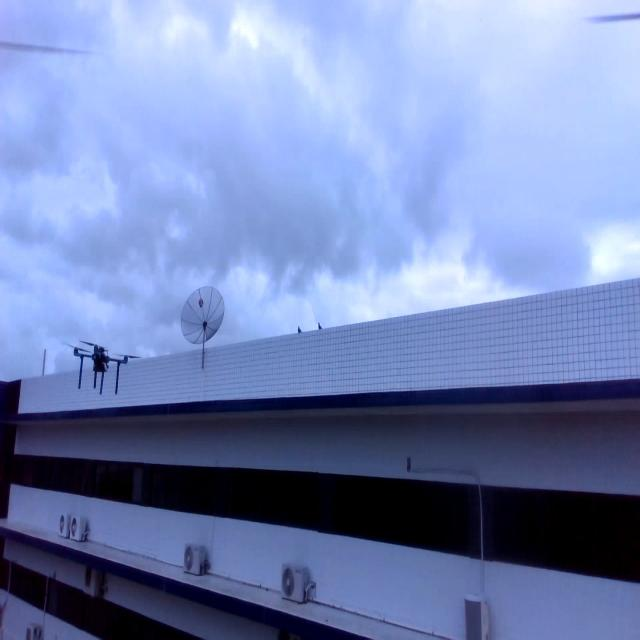-uav-: (61, 326, 148, 409)
